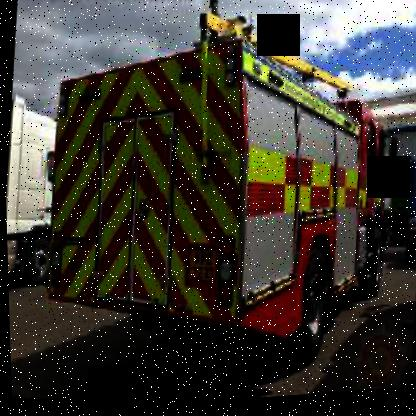emergency: (25, 0, 415, 400)
not_emergency: (2, 71, 68, 298)
